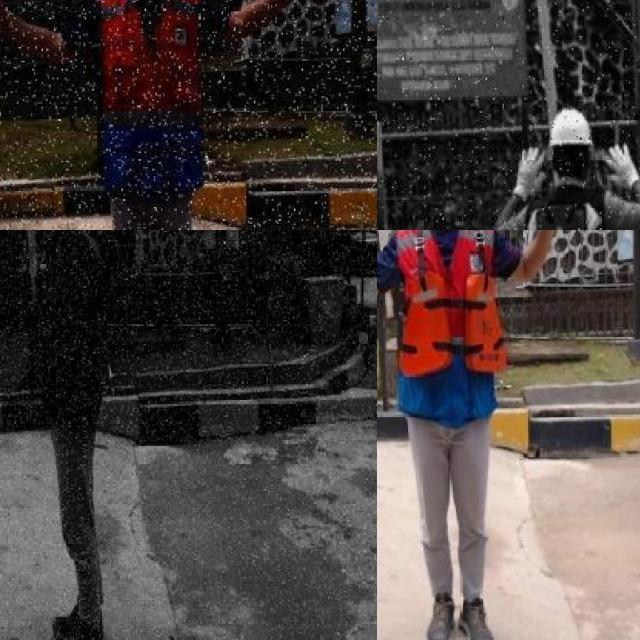apron: (511, 142, 548, 201), (602, 142, 640, 190)
